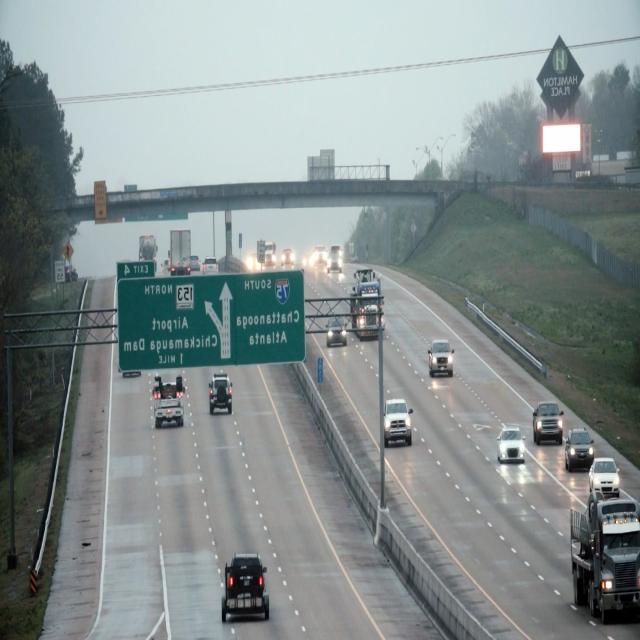Car: (569, 511, 640, 619), (220, 555, 268, 622), (350, 264, 386, 339), (151, 375, 185, 433), (532, 399, 564, 445), (384, 398, 414, 446), (588, 455, 619, 500), (563, 427, 594, 471), (496, 427, 526, 463), (208, 373, 232, 415), (428, 339, 454, 377), (324, 317, 348, 349)
